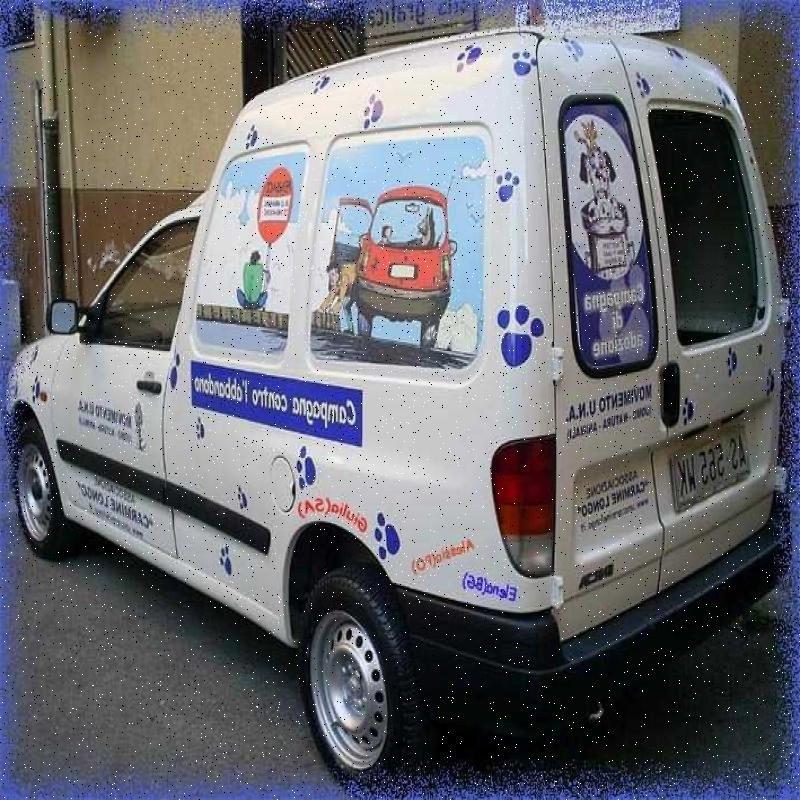ambulance: (2, 36, 778, 800)
